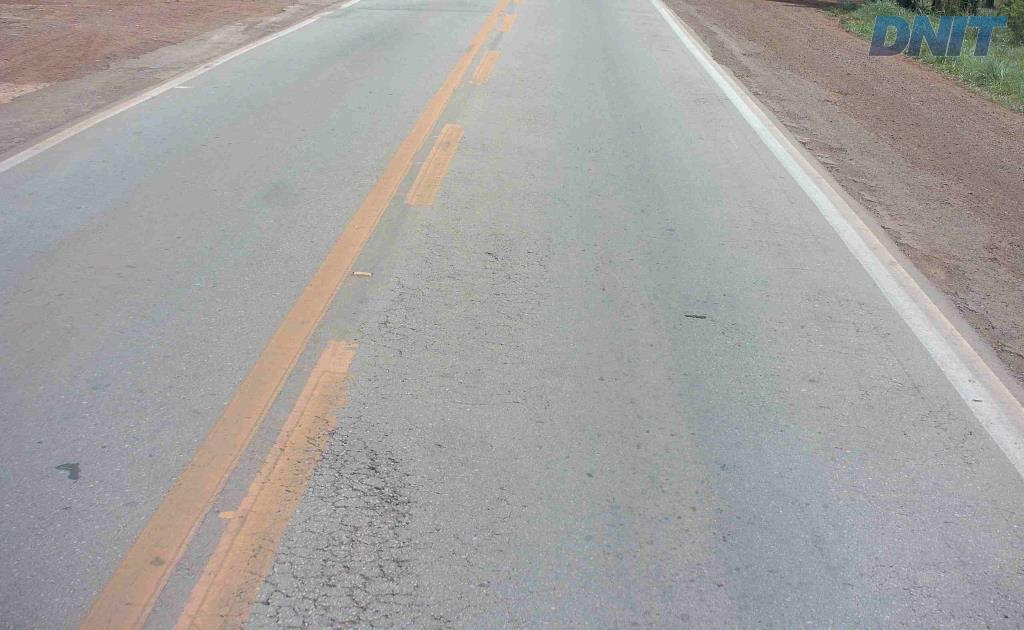crack: (314, 426, 423, 553), (326, 573, 375, 629), (315, 519, 383, 558), (308, 549, 357, 594), (369, 538, 413, 585)
